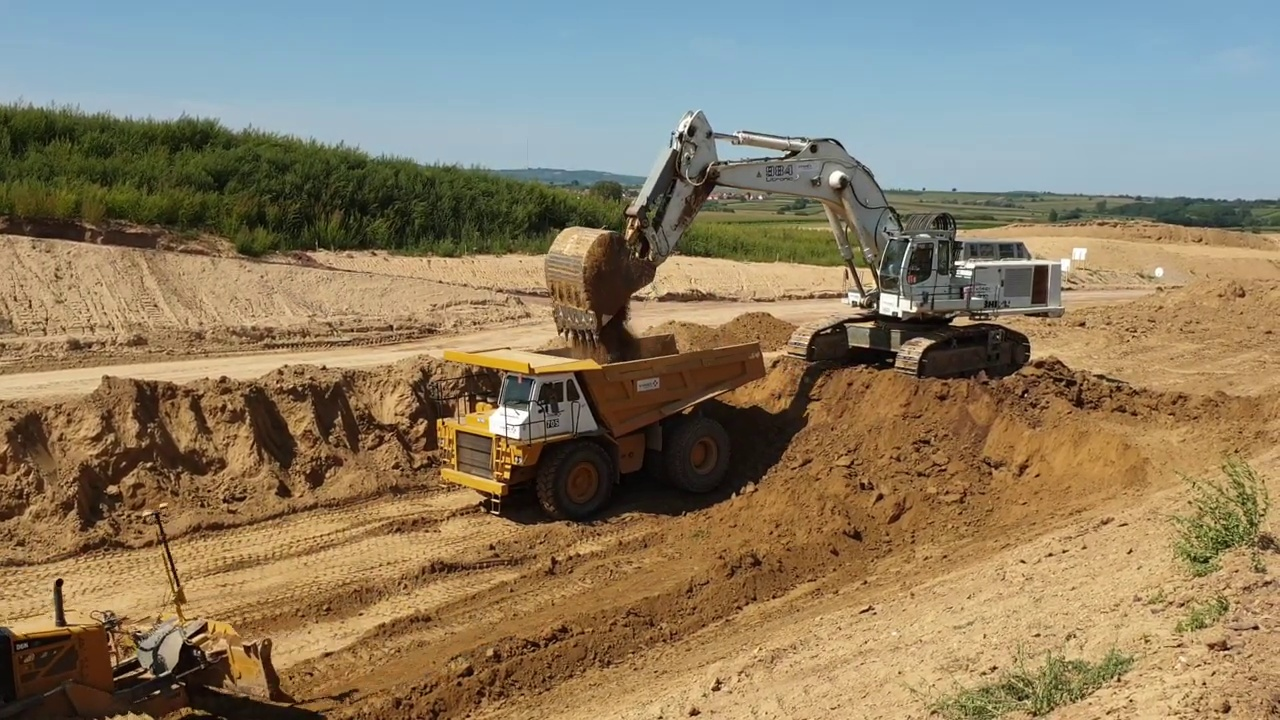bulldozer: (2, 500, 320, 720)
excavator: (539, 105, 1070, 388)
truck: (426, 331, 774, 527)
